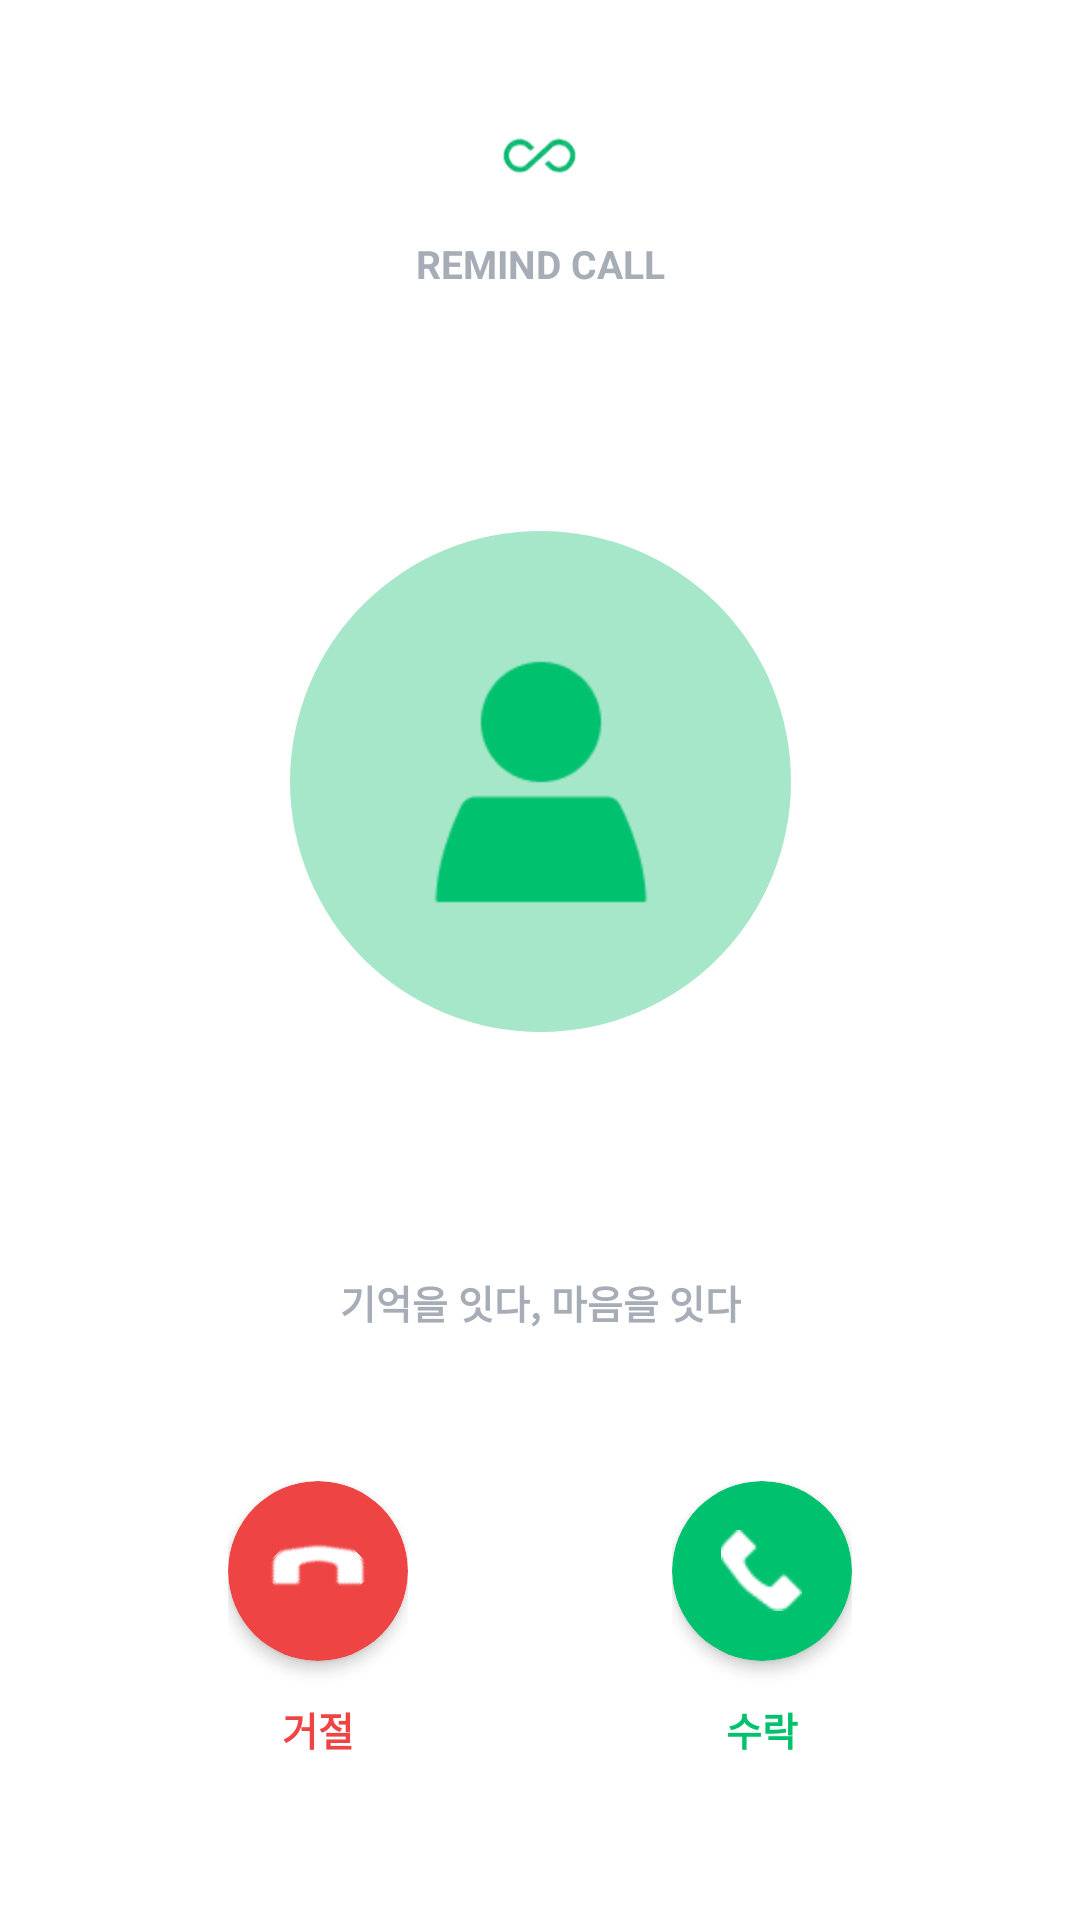

Named icons in this screenshot (1080*1920) and their centers, (x=x, y=y):
user: (x=541, y=782)
